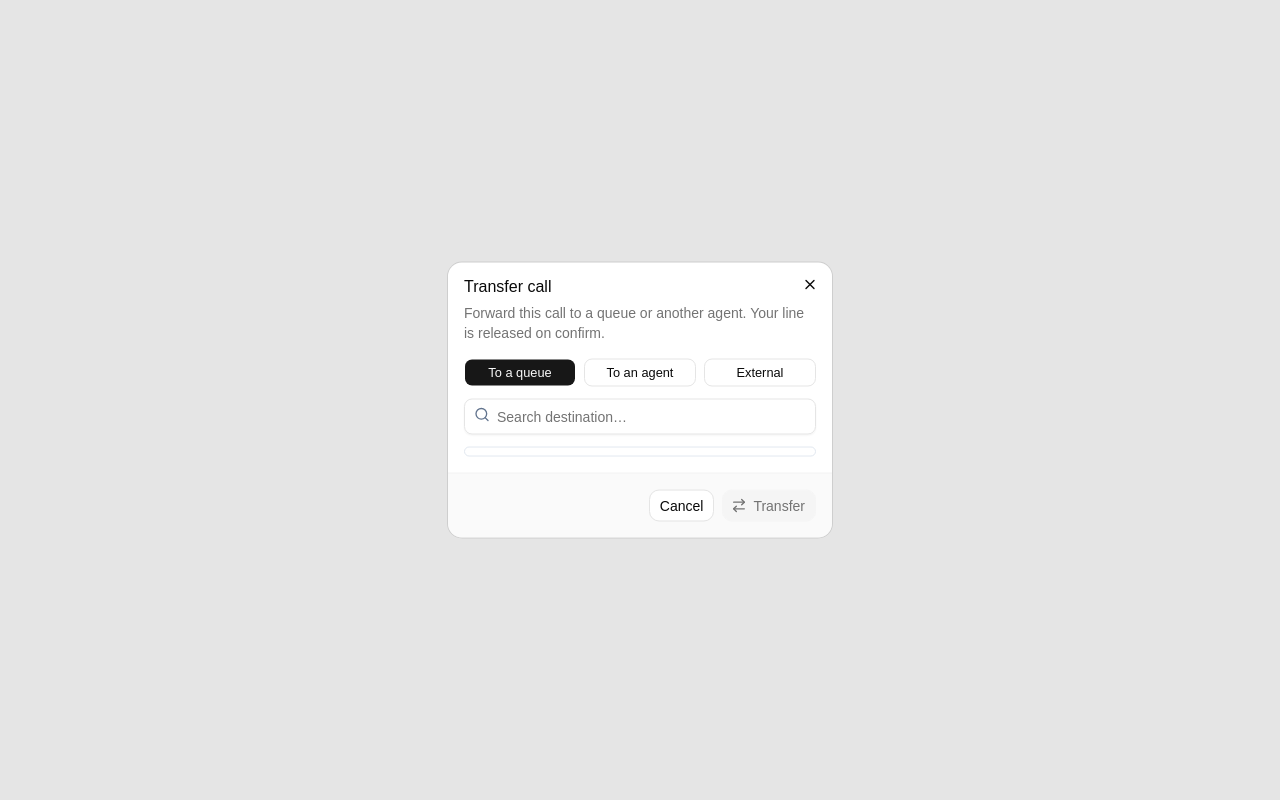
VoiceTransferDialog › VoiceTransferDialog_ShouldShowExternalNumberInput_WhenExternalToggleClicked
The width and height of the screenshot is (1280, 800).
Step 1. Click the button with test id "voice-transfer-to-external" → (760, 372), box [704, 358, 816, 386]
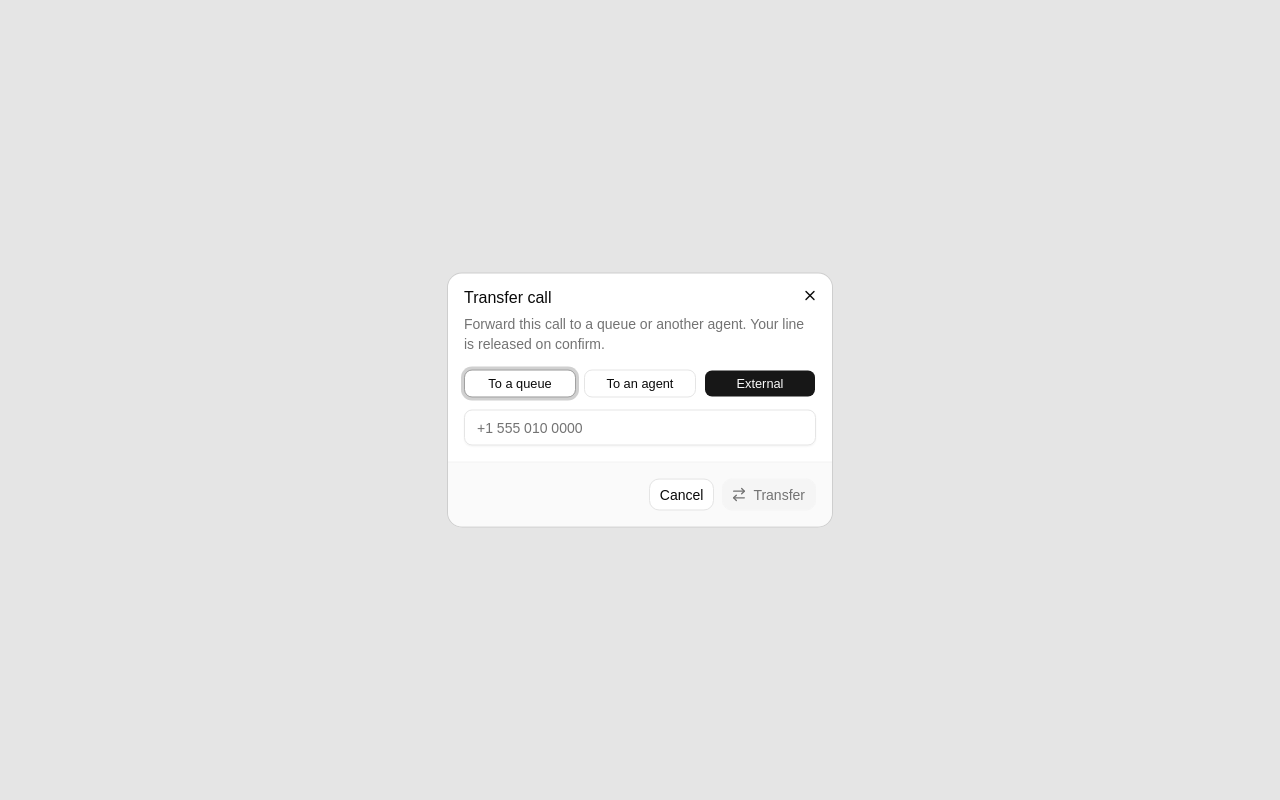
expect the field with test id "voice-transfer-external-number" is shown: met, box [464, 410, 816, 446]
expect the field with test id "voice-transfer-search" is gone: met
